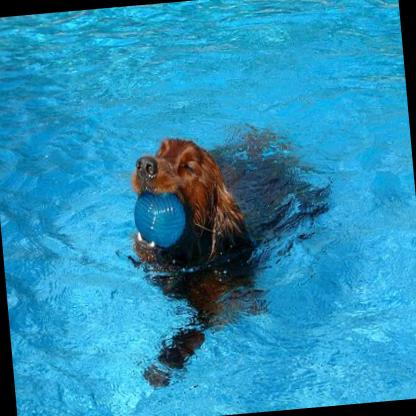Irish_setter: (124, 124, 257, 342)
